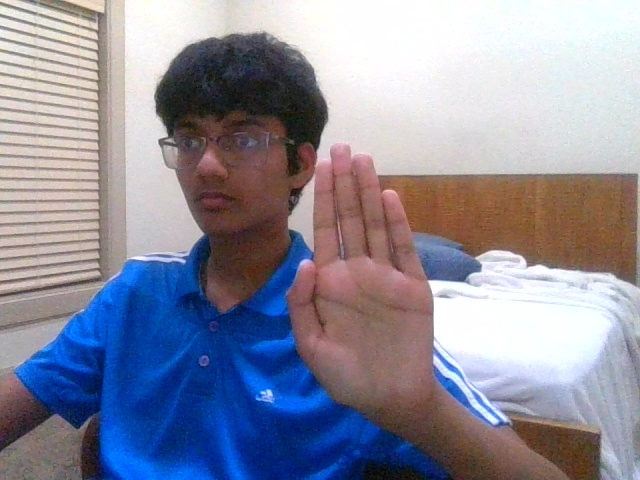hello: (285, 144, 435, 413)
